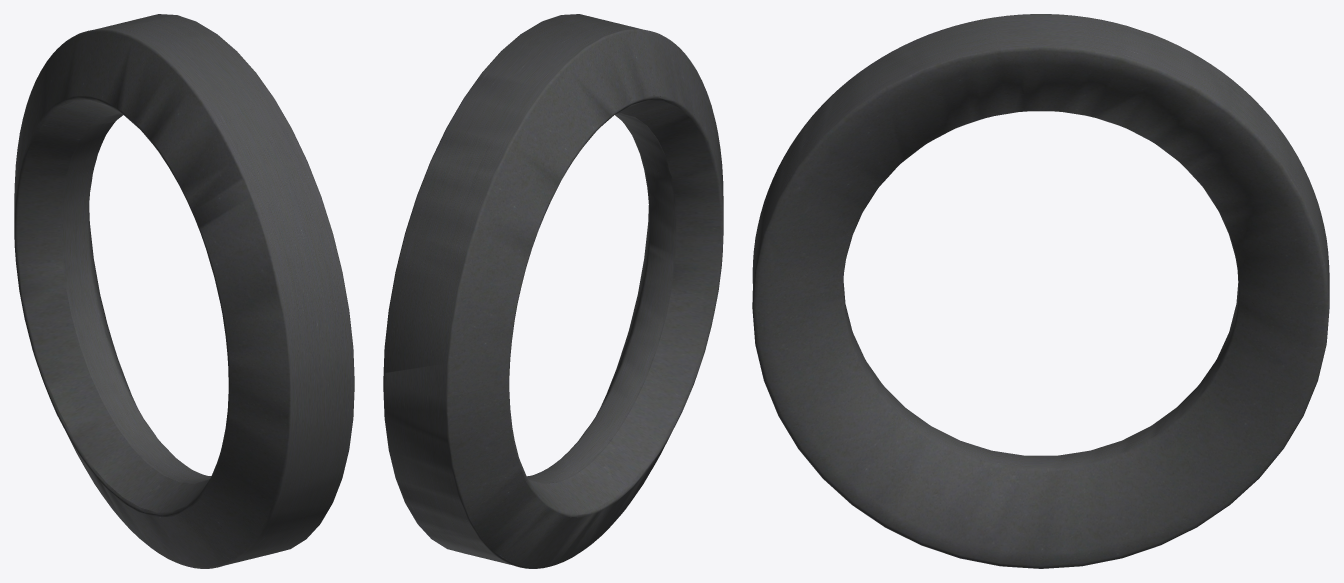
File: Recessed_Washer__OOCompensator.dae
3 renders of one model, left to right at view 1: azimuth 30°, elevation 25°; view 2: azimuth 150°, elevation 25°; view 3: azimuth 270°, elevation 25°, orthographic. The views are drawn at different scales.
Visible parts, largest first — view 1: Recessed_Washer__OOCompensator; view 2: Recessed_Washer__OOCompensator; view 3: Recessed_Washer__OOCompensator.
Boxes of the visible parts, bbox=[...] form: Recessed_Washer__OOCompensator: bbox=[14, 14, 354, 568]; Recessed_Washer__OOCompensator: bbox=[383, 14, 723, 568]; Recessed_Washer__OOCompensator: bbox=[752, 14, 1329, 568].
Size of the model in its own units: 0.00368 by 0.0184 by 0.0184.
Materials: 1 (1 with a texture image).
